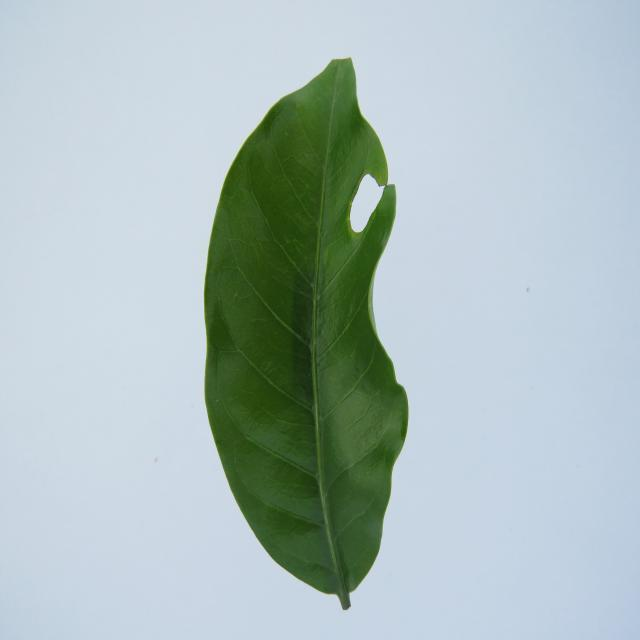DeficienciaNutricional-Calcio: (204, 57, 407, 605)
